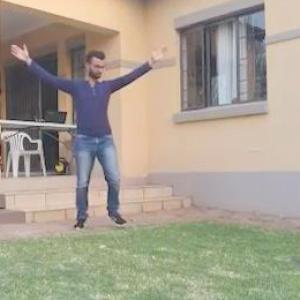takeoff: (5, 38, 170, 225)
